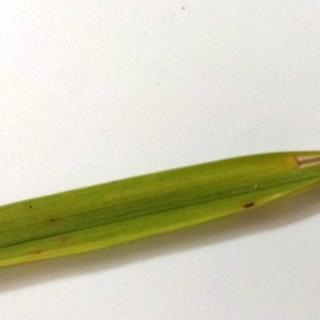bercak-Cokelat: (27, 202, 61, 227), (240, 200, 256, 216), (30, 246, 43, 258)
